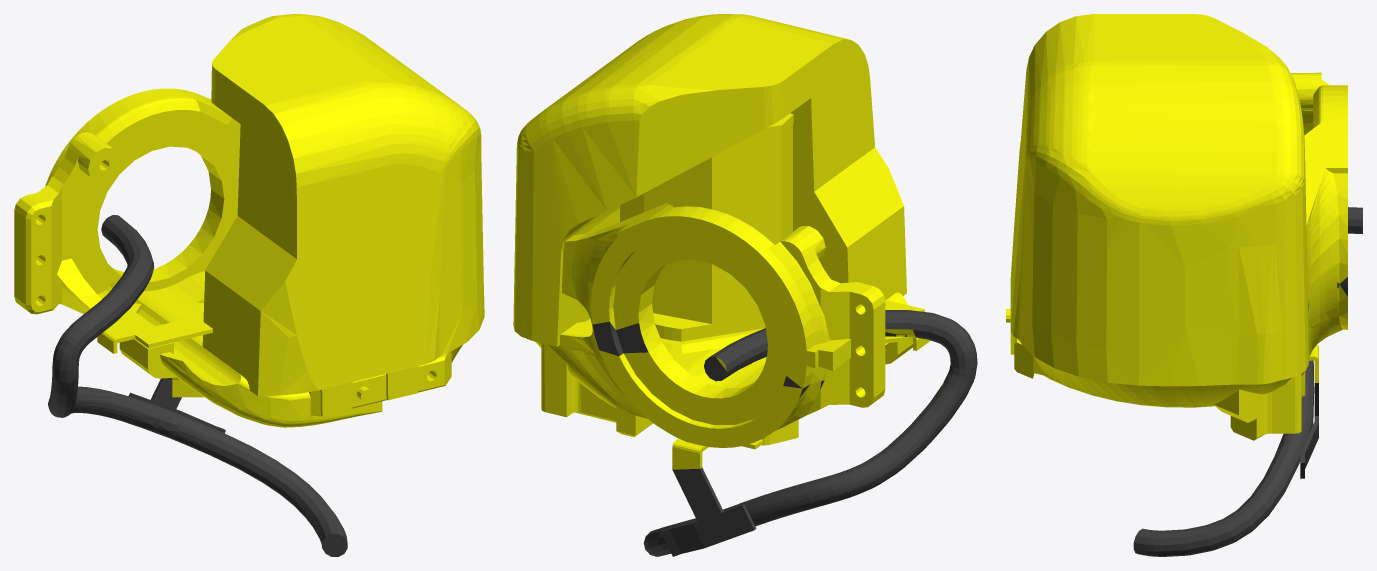
3 renders of one model, left to right at view 1: azimuth 30°, elevation 25°; view 2: azimuth 150°, elevation 25°; view 3: azimuth 270°, elevation 25°, orthographic. The views are drawn at different scales.
Parts seen in each view (by area): view 1: node; view 2: node; view 3: node.
Part boxes in pixels (bbox=[...]): node: bbox=[14, 14, 484, 556]; node: bbox=[513, 14, 977, 556]; node: bbox=[1006, 14, 1362, 556].
Size of the model in its own units: 347 by 400 by 262.
